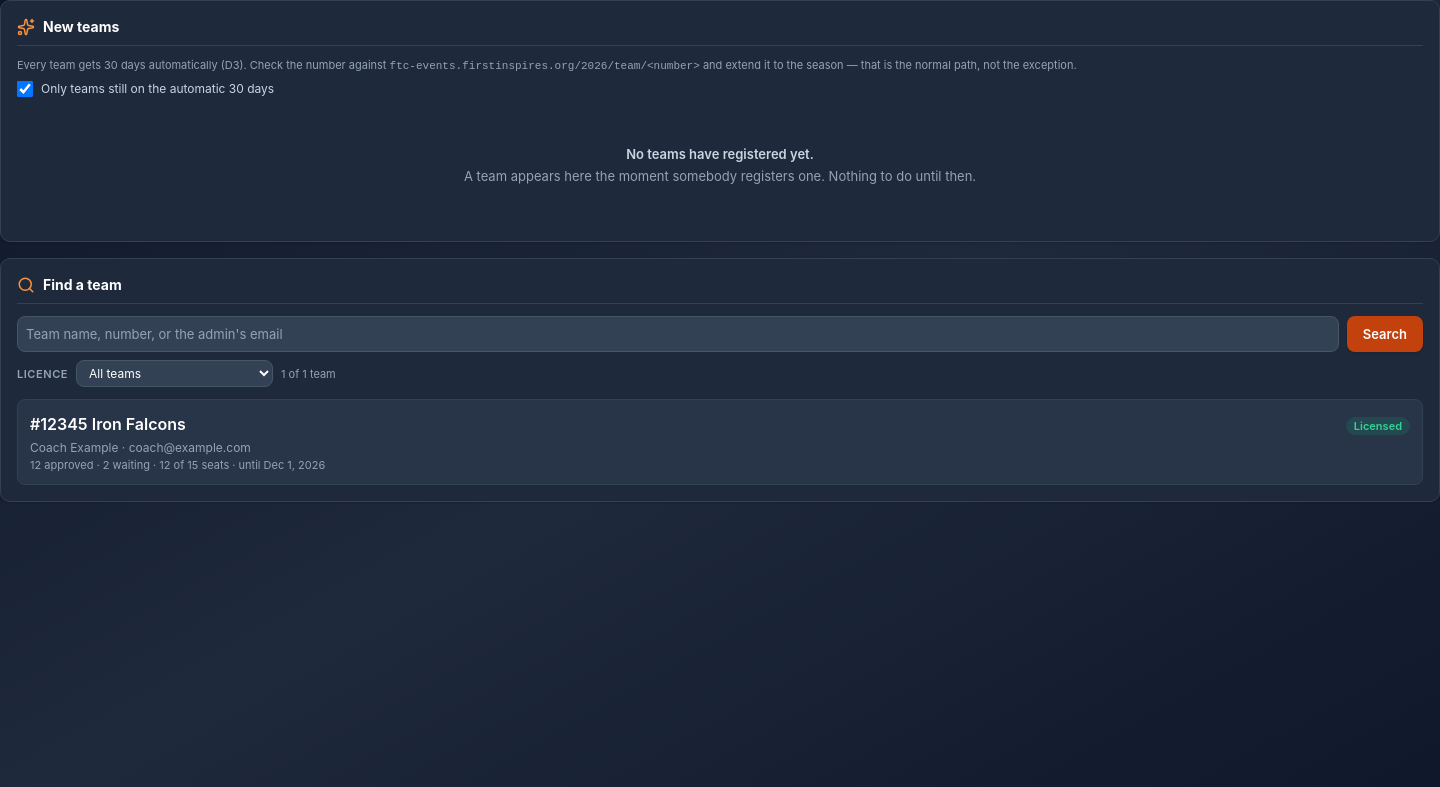
Scenario: allowing an account a second team › says when the account already had an unused grant, rather than implying a second
Click the text "#12345 Iron Falcons" at (108, 424), box x1=30 y1=412 x2=186 y2=436
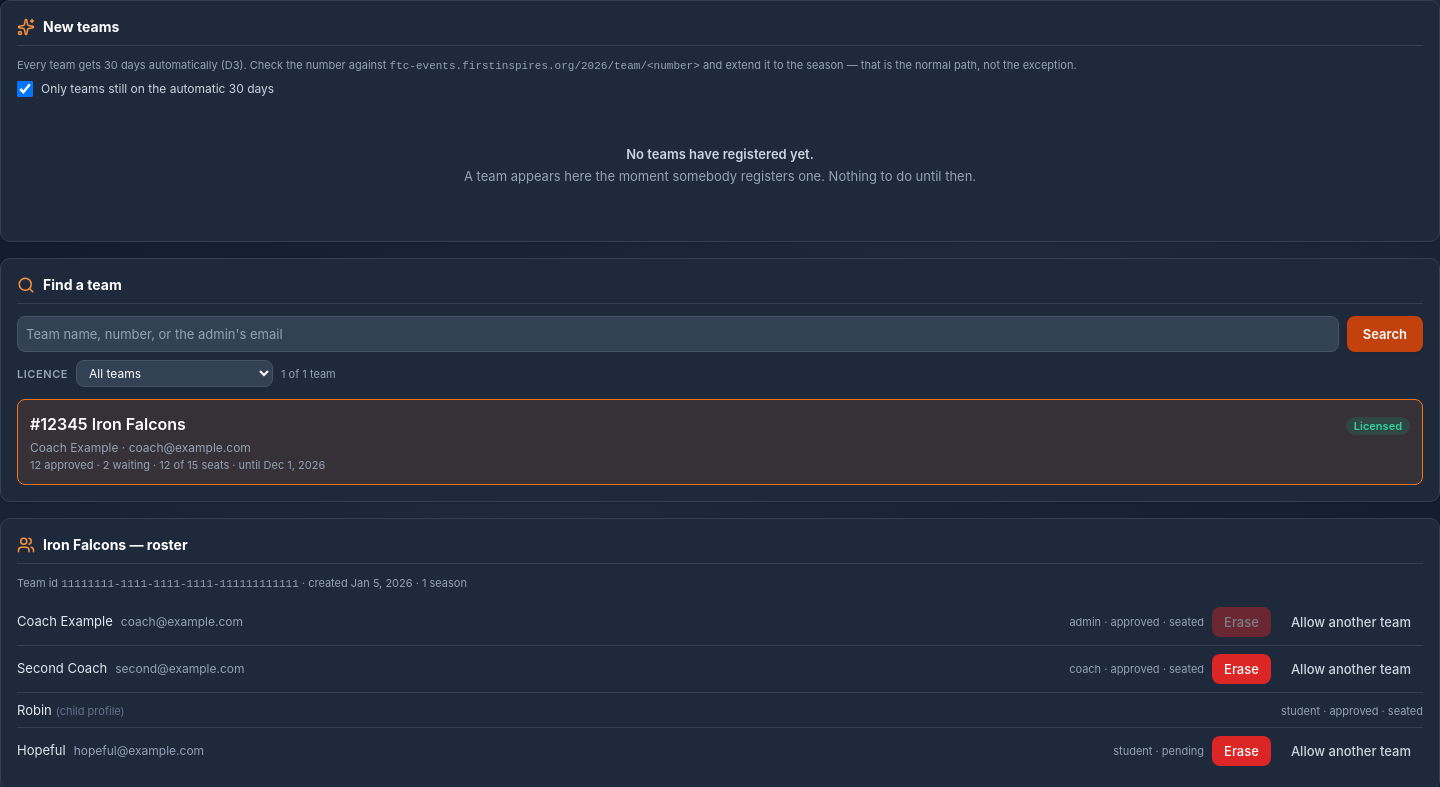
Result: the heading "Iron Falcons — roster" is shown at x1=17 y1=535 x2=188 y2=555
Click the button with test id "grant-extra-team-m-admin" at (1351, 622), box x1=1279 y1=607 x2=1423 y2=637
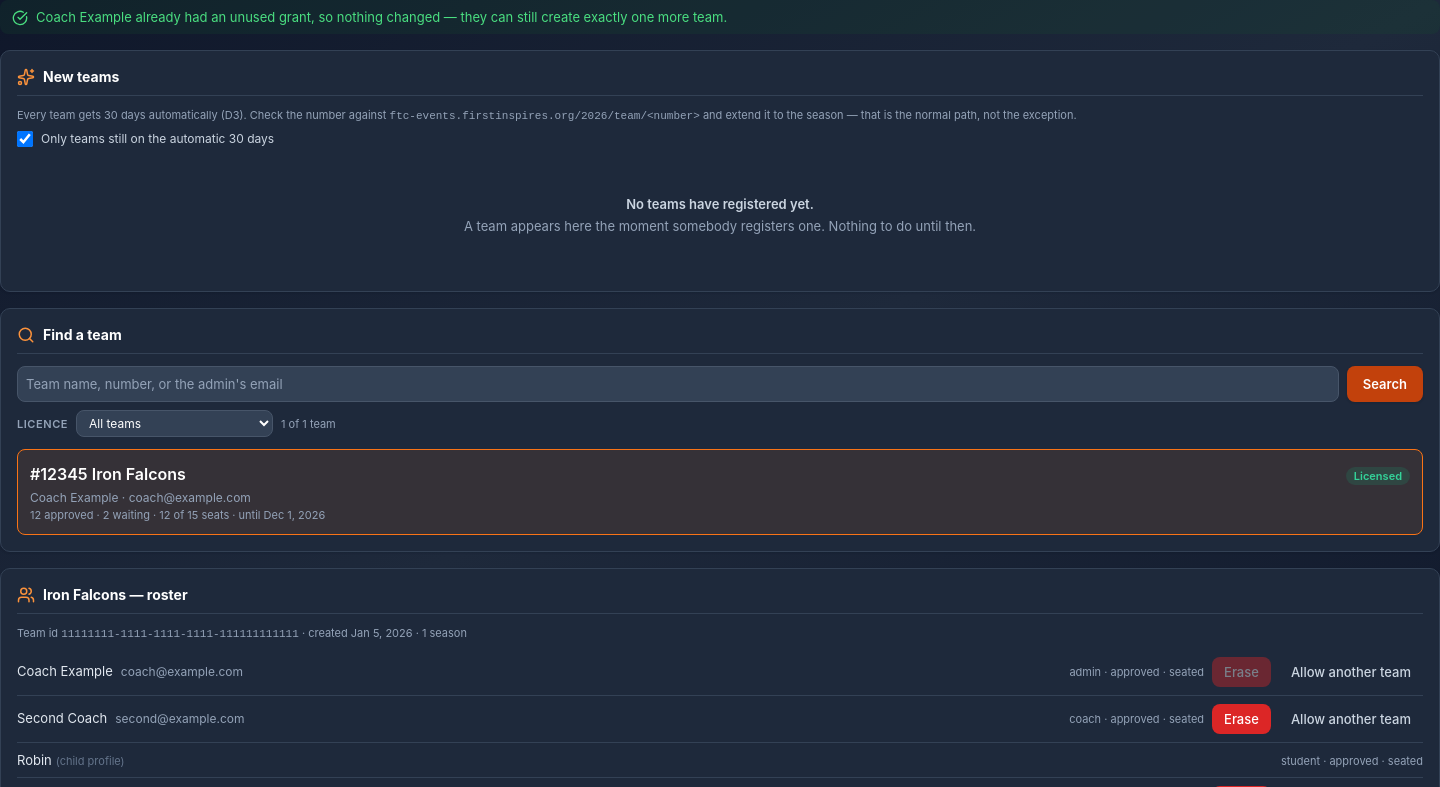
Result: the text "already had an unused grant" is shown at x1=36 y1=9 x2=727 y2=25
